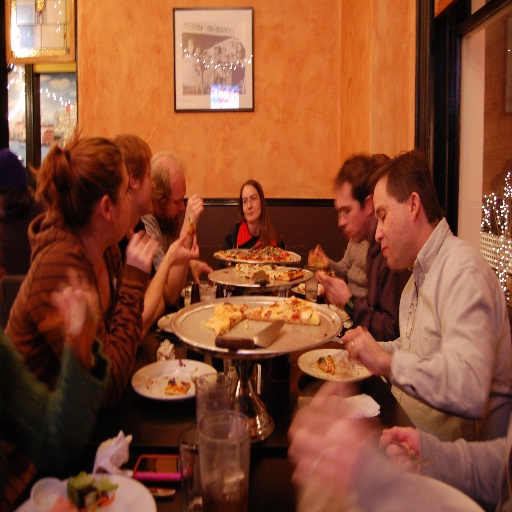hand: (287, 400, 368, 499), (51, 273, 102, 359), (352, 333, 400, 383), (376, 425, 421, 476), (125, 227, 160, 278), (315, 269, 352, 312), (165, 230, 200, 266), (189, 258, 216, 291), (187, 190, 206, 227), (306, 246, 328, 269), (341, 324, 370, 340)
